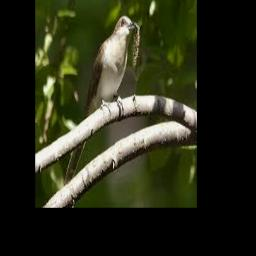Cuckoo: (65, 16, 137, 186)
